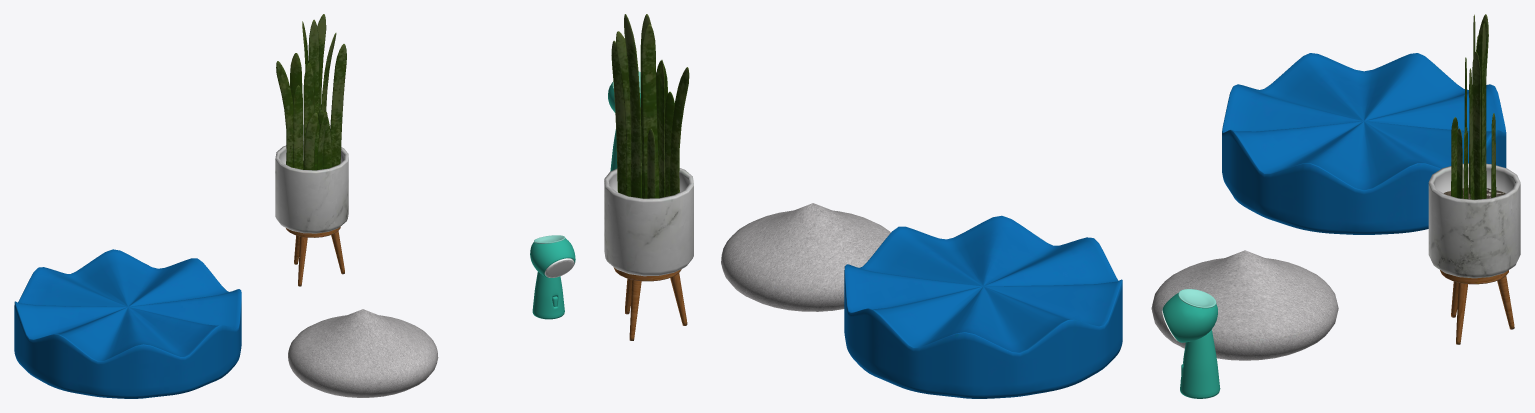
The picture shows the model from 3 angles, left to right: view 1: azimuth 30°, elevation 25°; view 2: azimuth 150°, elevation 25°; view 3: azimuth 270°, elevation 25°; orthographic projection. The views are drawn at different scales.
Visible parts, largest first — view 1: GardenThing, Plant.001, FluffyThing, GardenLight.001; view 2: GardenThing, Plant.001, FluffyThing; view 3: GardenThing, Plant.001, FluffyThing, GardenLight.001.
Part boxes in pixels (x1,y1,x2,y2): GardenThing: (14,249,241,398); Plant.001: (275,14,348,286); FluffyThing: (288,309,438,397); GardenLight.001: (530,235,575,319); GardenThing: (844,215,1122,398); Plant.001: (604,14,693,340); FluffyThing: (721,203,890,311); GardenThing: (1222,53,1506,234); Plant.001: (1428,14,1520,344); FluffyThing: (1151,250,1338,360); GardenLight.001: (1162,289,1220,398).
Bounding box in the file's own units: 3.62 × 2.04 × 1.97.
Materials: 1 (1 with a texture image).
